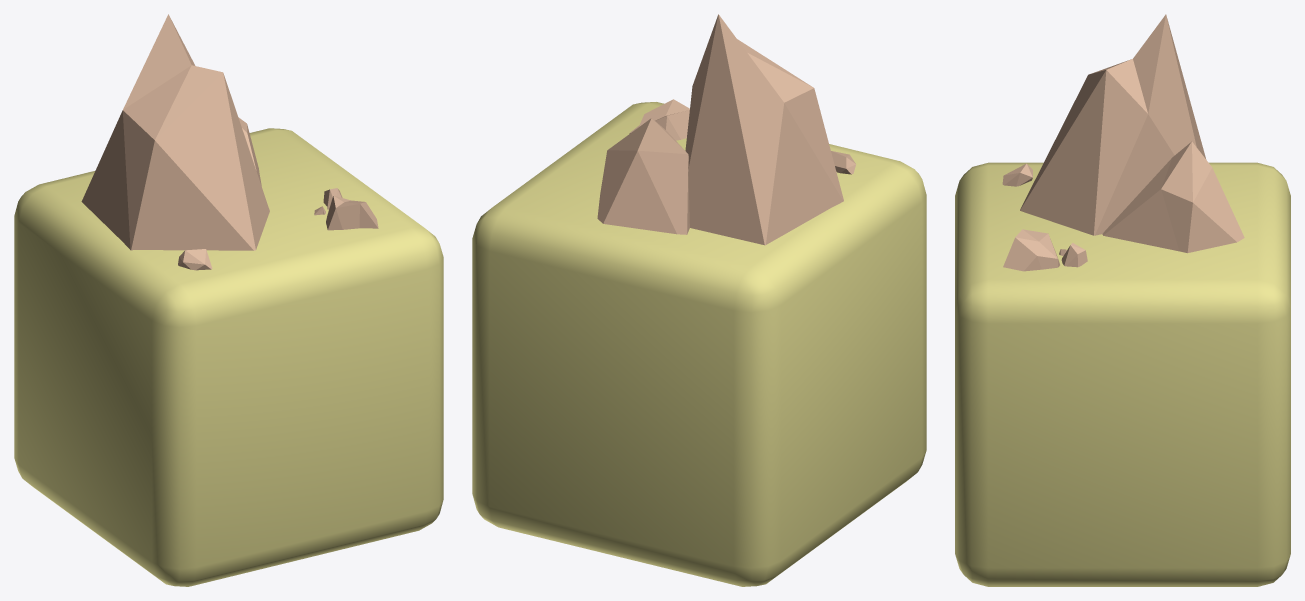
Rendered from mountain2.fbx.
The picture shows the model from 3 angles, left to right: view 1: azimuth 30°, elevation 25°; view 2: azimuth 150°, elevation 25°; view 3: azimuth 270°, elevation 25°; orthographic projection. The views are drawn at different scales.
Parts seen in each view (by area): view 1: Cube.025, Icosphere.008, Icosphere.012, Icosphere.010; view 2: Cube.025, Icosphere.008, Icosphere.009, Icosphere.012; view 3: Cube.025, Icosphere.008, Icosphere.009, Icosphere.012, Icosphere.010, Icosphere.011.
Part boxes in pixels (x1,y1,x2,y2): Cube.025: (14,128,443,586); Icosphere.008: (81,14,269,250); Icosphere.012: (326,195,378,230); Icosphere.010: (178,249,212,270); Cube.025: (472,102,926,586); Icosphere.008: (685,14,843,245); Icosphere.009: (597,118,689,234); Icosphere.012: (640,99,689,140); Cube.025: (955,162,1290,586); Icosphere.008: (1020,14,1206,235); Icosphere.009: (1102,141,1244,253); Icosphere.012: (1003,229,1059,271); Icosphere.010: (1002,163,1032,186); Icosphere.011: (1061,243,1087,267).
Bounding box in the file's own units: 200 × 324 × 200.
